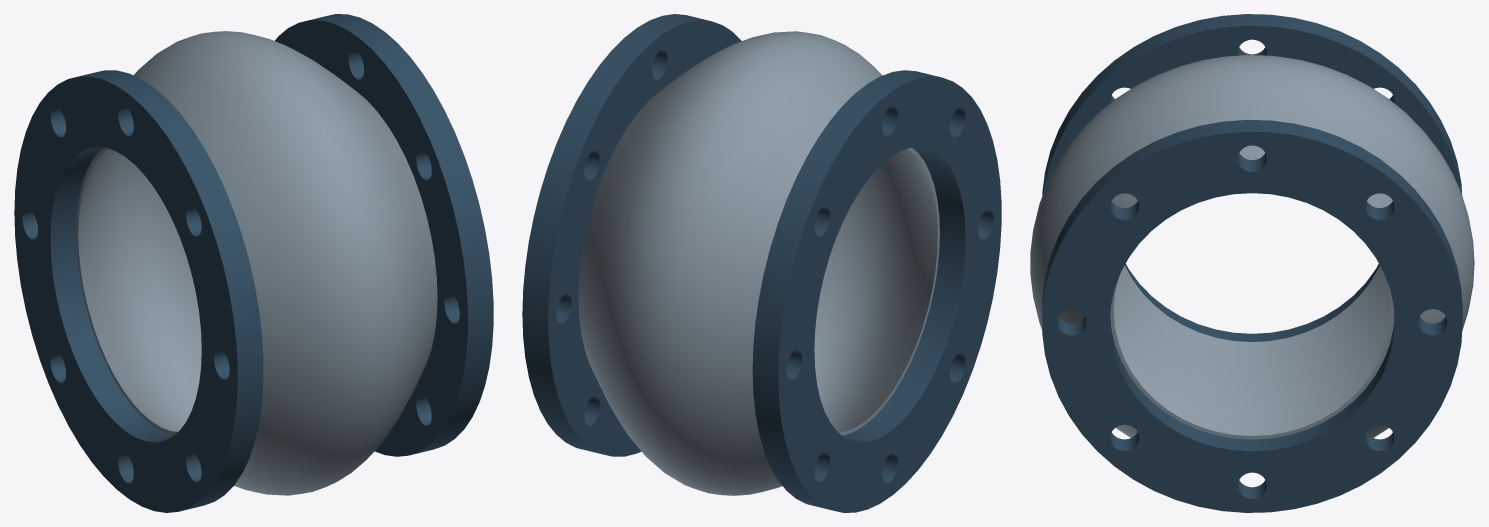
3 renders of one model, left to right at view 1: azimuth 30°, elevation 25°; view 2: azimuth 150°, elevation 25°; view 3: azimuth 270°, elevation 25°, orthographic. The views are drawn at different scales.
Parts seen in each view (by area): view 1: rebro_vstavka_rezina, homut_flanec_1, homut_flanec_2; view 2: rebro_vstavka_rezina, homut_flanec_1, homut_flanec_2; view 3: homut_flanec_2, rebro_vstavka_rezina, homut_flanec_1.
Boxes of the visible parts, box(x1,y1,x2,y2) form: rebro_vstavka_rezina: box(76, 31, 437, 495); homut_flanec_1: box(14, 70, 263, 512); homut_flanec_2: box(275, 14, 493, 456); rebro_vstavka_rezina: box(578, 31, 939, 495); homut_flanec_1: box(752, 70, 1001, 512); homut_flanec_2: box(522, 14, 741, 456); homut_flanec_2: box(1042, 119, 1462, 512); rebro_vstavka_rezina: box(1030, 55, 1474, 439); homut_flanec_1: box(1042, 14, 1461, 341).
Bounding box in the file's own units: 210 × 335 × 335.
